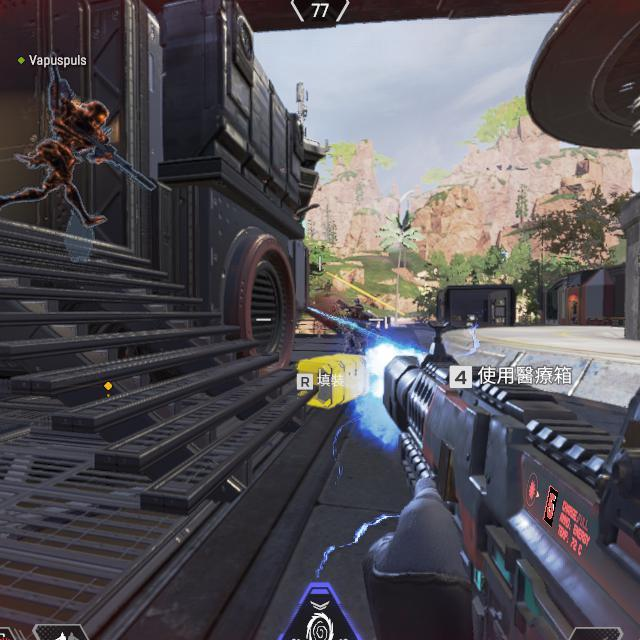avatar: (33, 99, 112, 230)
